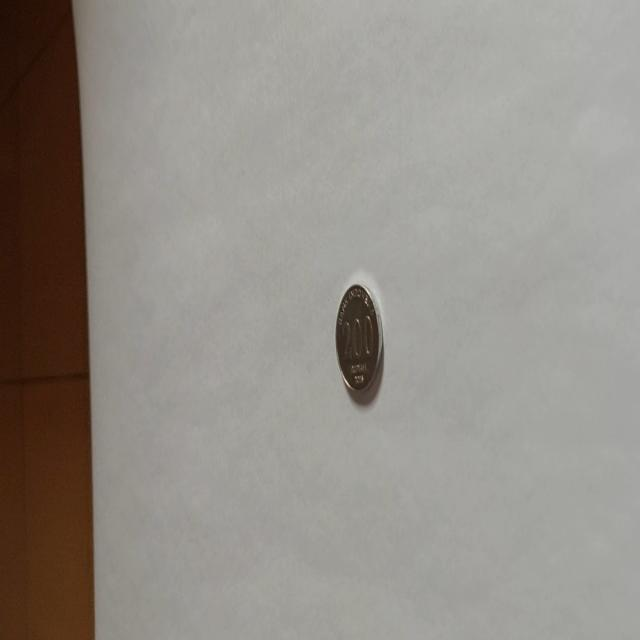dua ratus rupiah: (334, 280, 384, 396)
